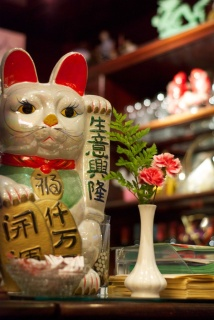Cat: (0, 47, 112, 294)
